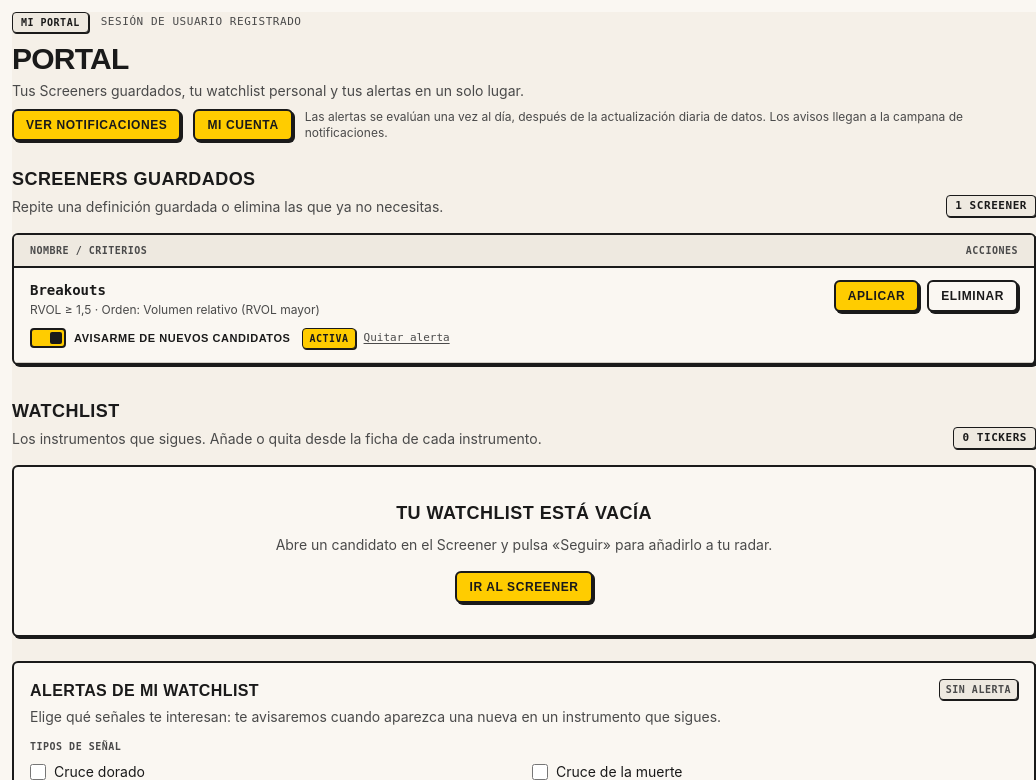
Test: removes the alert and its toggle with the Saved Screener
Click the button "Eliminar". click: (973, 296)
box: [927, 280, 1018, 312]
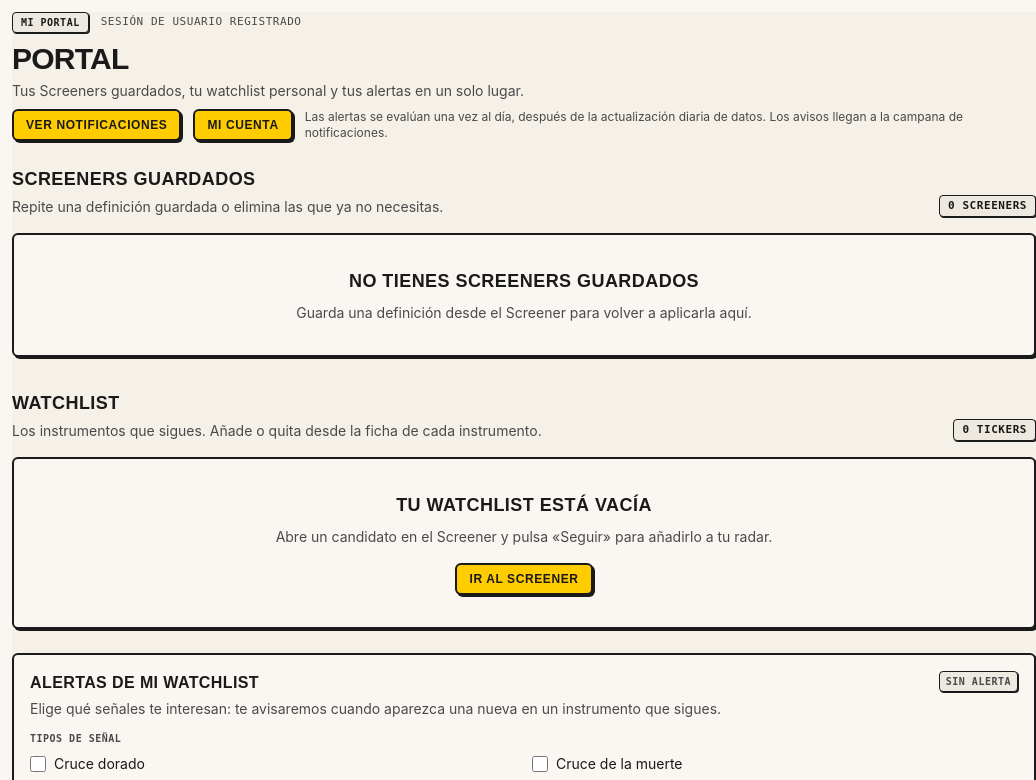
Check: the switch is gone
